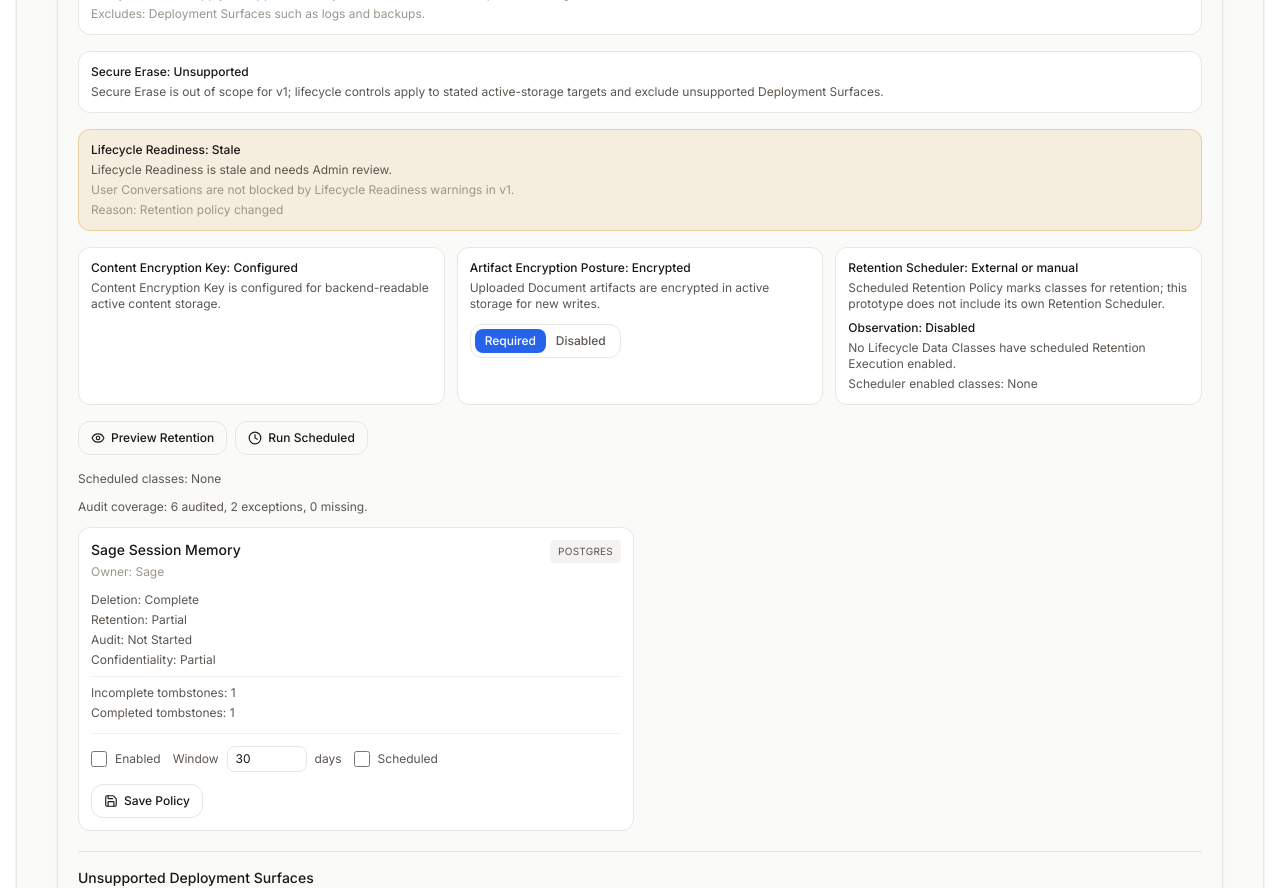
it: AdminDeploymentConfig › lets admins preview retention, run scheduled retention, and see audit coverage
(page scrolled)
Expected: the text "Audit coverage: 6 audited, 2 exceptions, 0 missing." is shown, x1=78 y1=499 x2=368 y2=514
Expected: the text "Scheduled classes: None" is shown, x1=78 y1=471 x2=221 y2=486
Click the button "Preview Retention" at (153, 438), box x1=78 y1=421 x2=227 y2=455
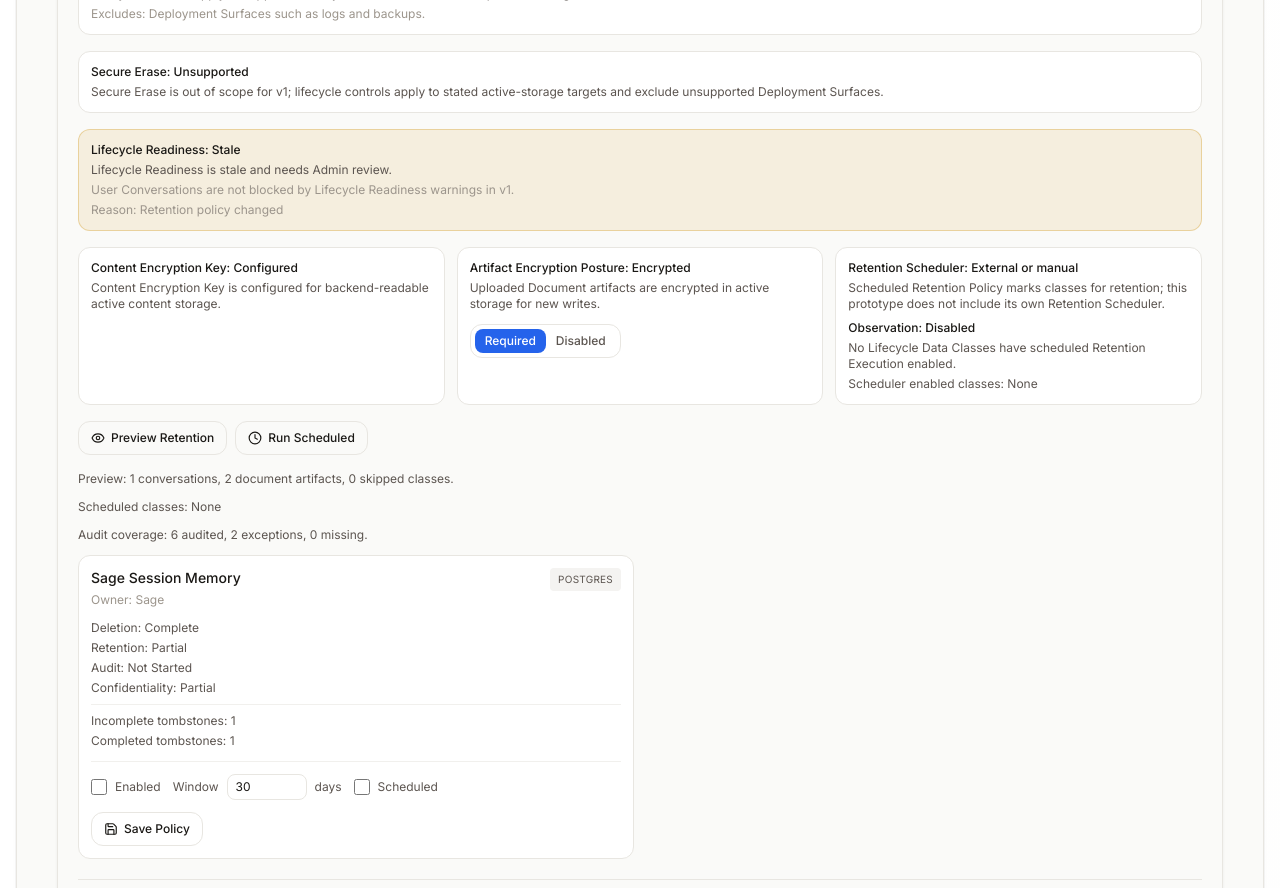
Now the text "Preview: 1 conversations, 2 document artifacts, 0 skipped classes." is shown, box x1=78 y1=471 x2=454 y2=486
Click the button "Run Scheduled" at (302, 438), box x1=235 y1=421 x2=368 y2=455
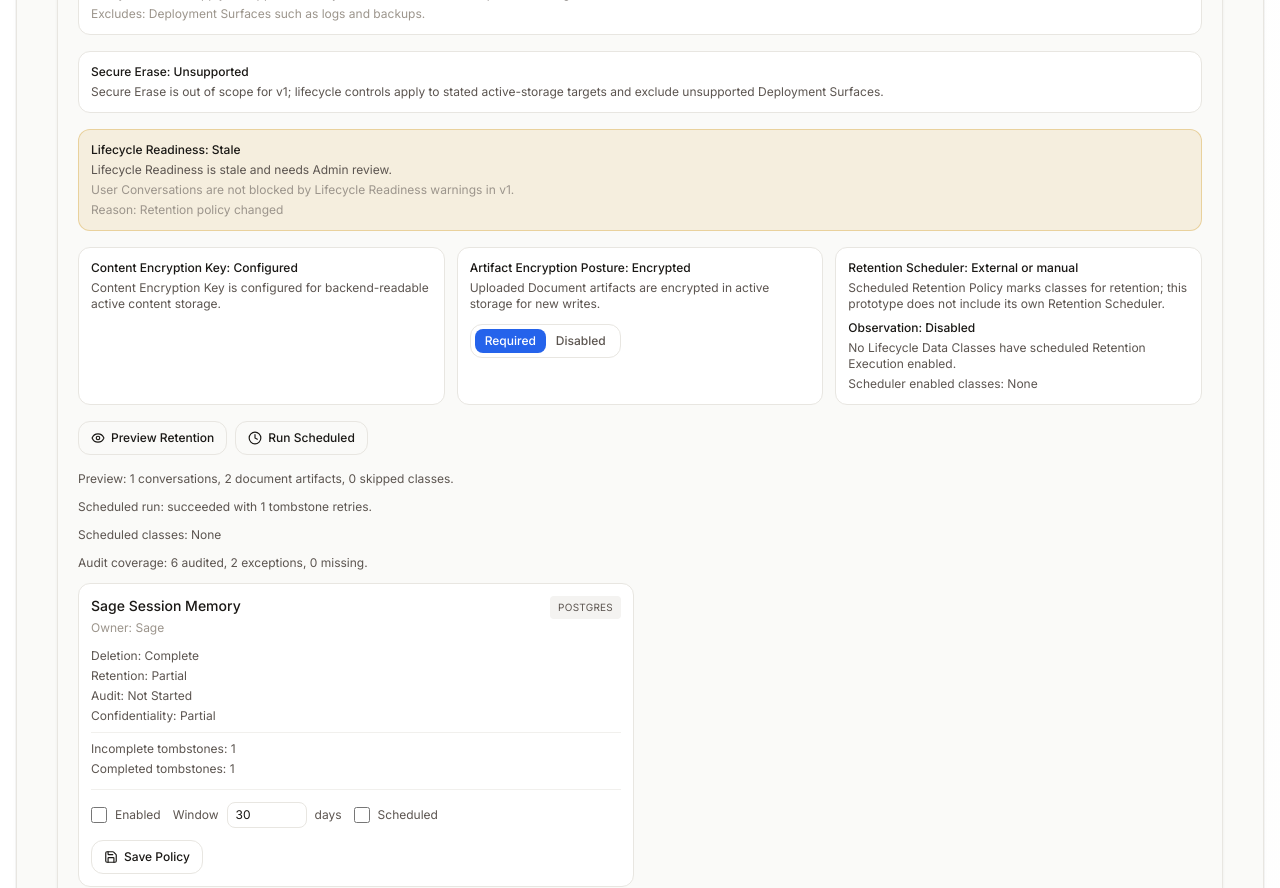
Now the text "Scheduled run: succeeded with 1 tombstone retries." is shown, box x1=78 y1=499 x2=372 y2=514
